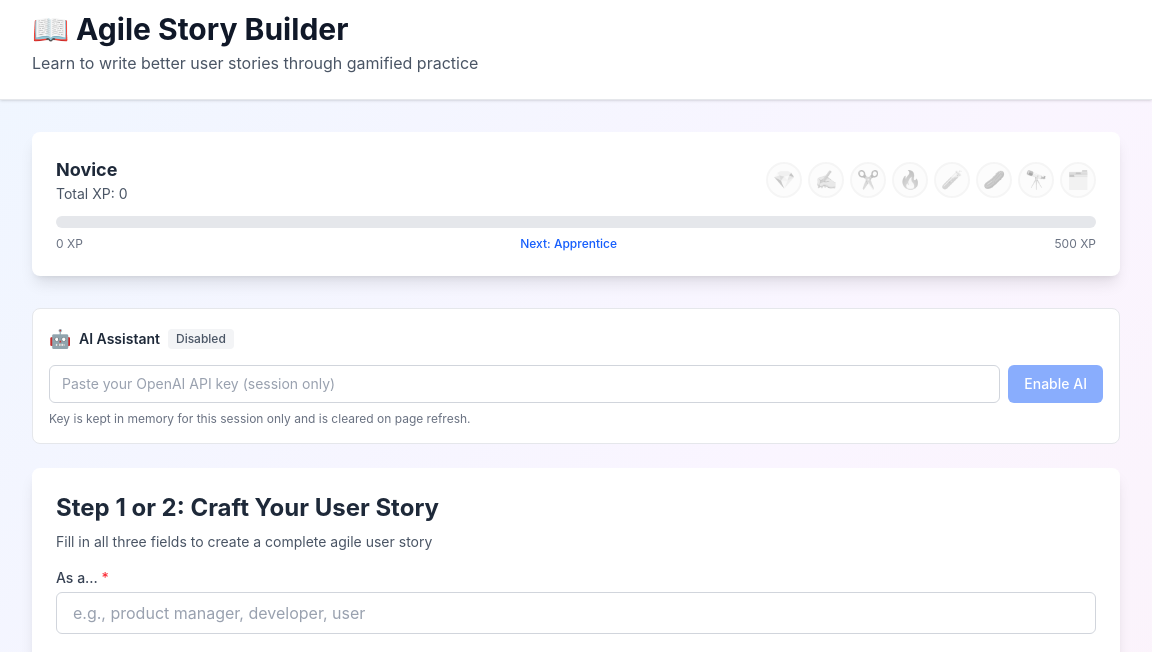
Test: AI gating › Improve with AI button is disabled (visually) when no key and draft exists
The image size is (1152, 652).
Type "product manager" into the field labelled "As a... *" at {"x": 576, "y": 613}, box [56,592,1096,634]
(page scrolled)
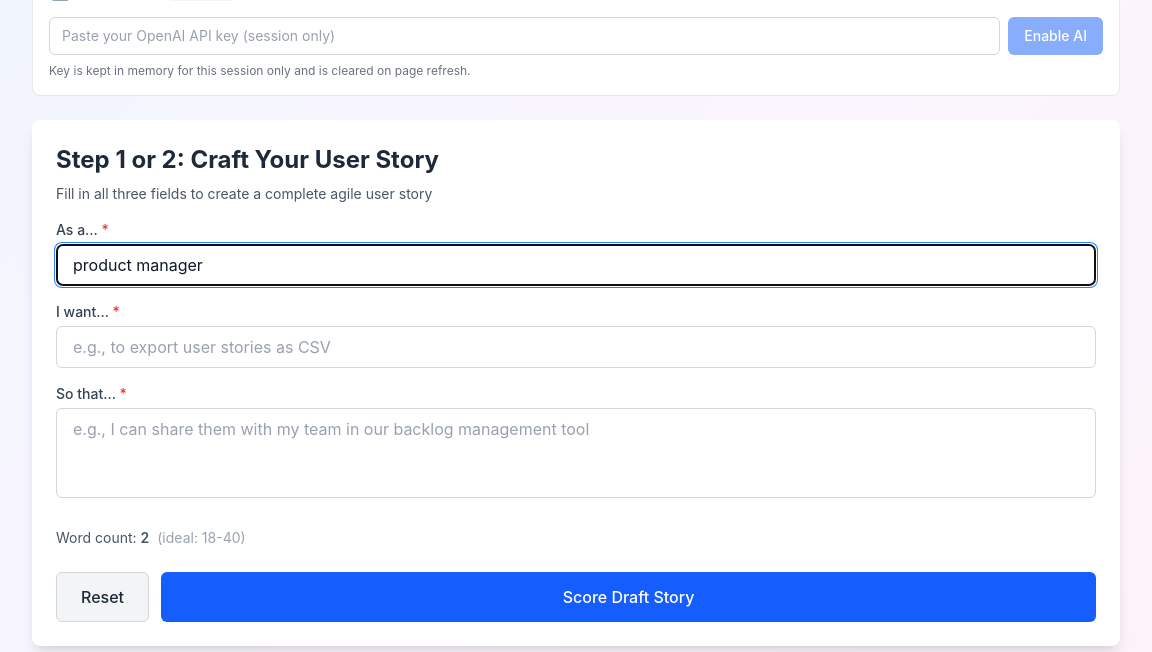
Type "to export weekly incident summaries" into the field labelled "I want... *" at {"x": 576, "y": 347}, box [56,326,1096,368]
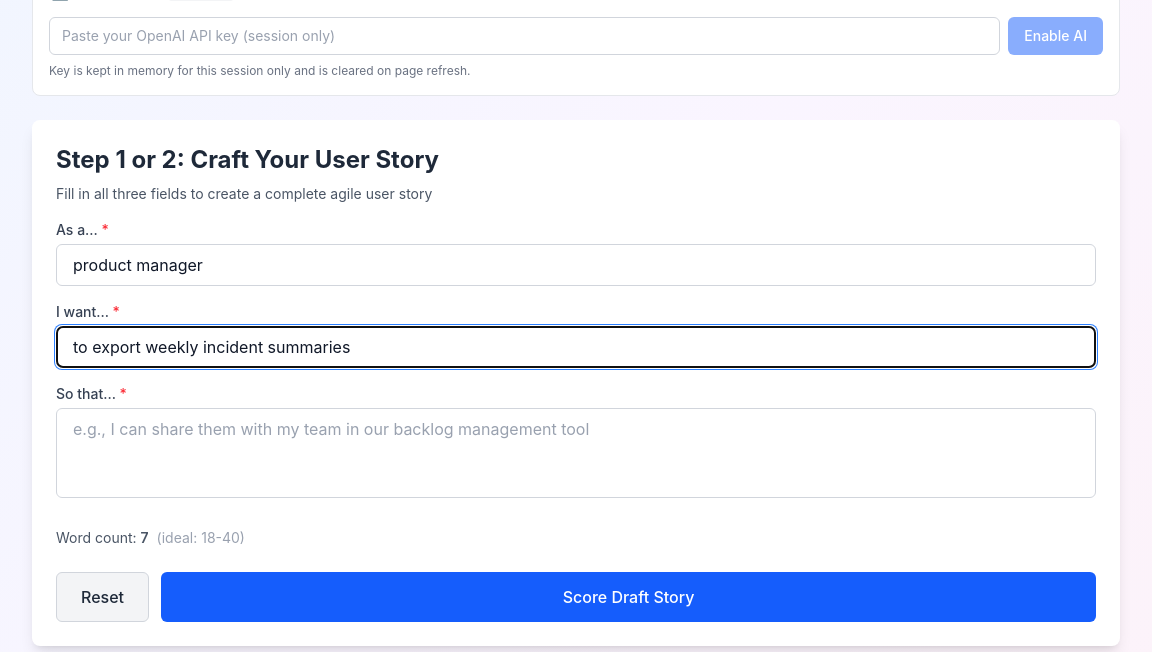
Type "I can reduce weekly reporting time by 40%" into the text box labelled "So that... *" at {"x": 576, "y": 453}, box [56,408,1096,498]
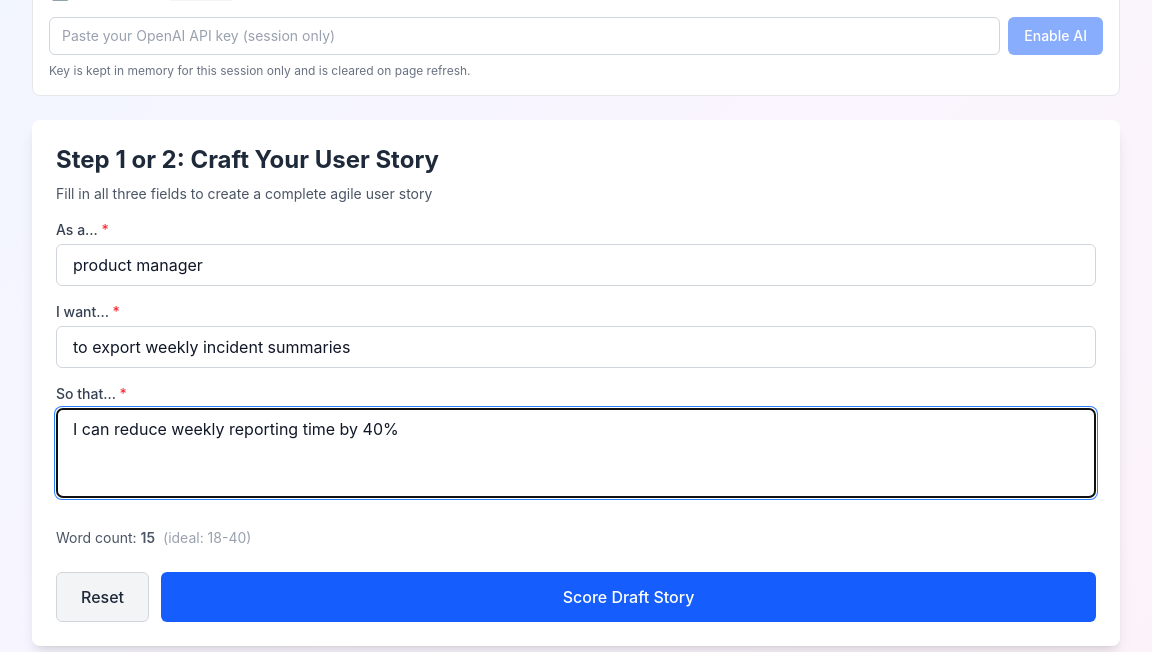
Click the button "Score Draft Story" at {"x": 628, "y": 597}, box [161,572,1096,622]
(page scrolled)
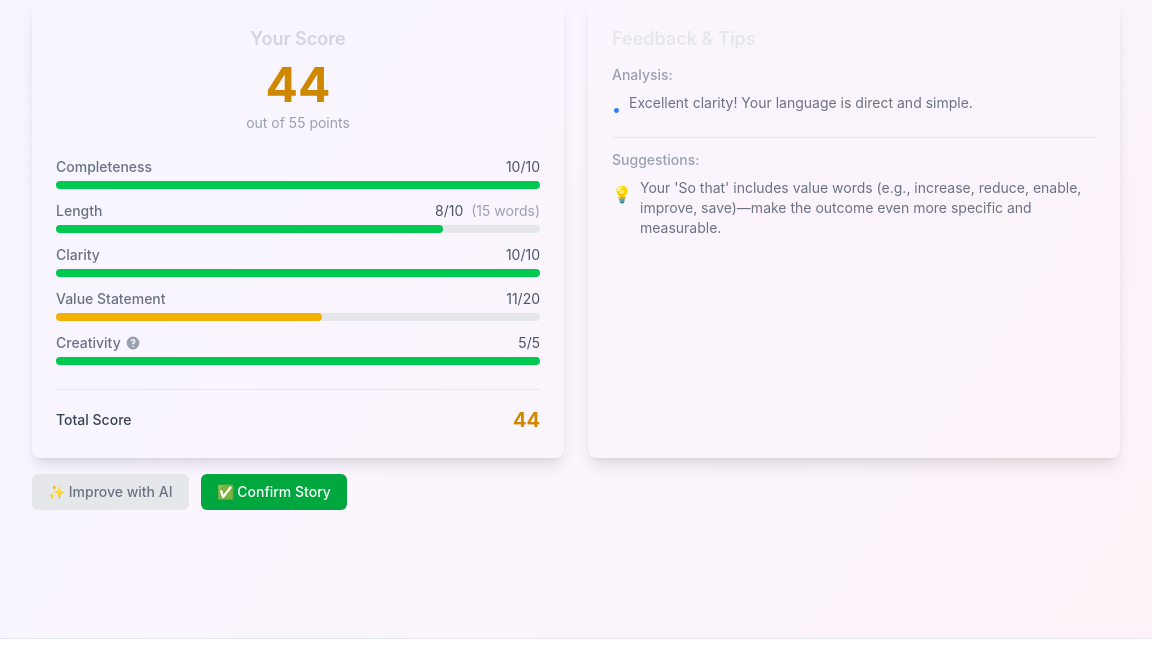
Now the button "✨ Improve with AI" is disabled, box [32,474,188,510]
